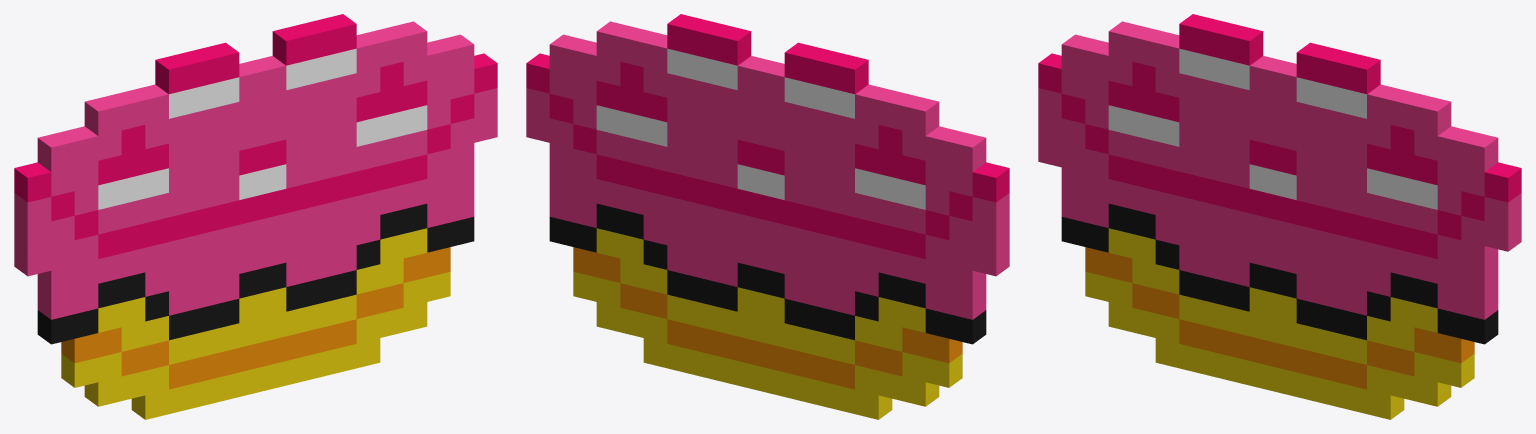
Rendered from p_cake_voxel.fbx.
The picture shows the model from 3 angles, left to right: view 1: azimuth 30°, elevation 25°; view 2: azimuth 150°, elevation 25°; view 3: azimuth 330°, elevation 25°; orthographic projection.
Parts seen in each view (by area): view 1: Cake_Lowpoly.214, Cake_Lowpoly.017, Cake_Lowpoly.047, Cake_Lowpoly.086, Cake_Lowpoly.025, Cake_Lowpoly.019, Cake_Lowpoly.014, Cake_Lowpoly.016, Cake_Lowpoly.018, Cake_Lowpoly.015, Cake_Lowpoly.026, Cake_Lowpoly.125 (+215 smaller); view 2: Cake_Lowpoly.214, Cake_Lowpoly.017, Cake_Lowpoly.047, Cake_Lowpoly.086, Cake_Lowpoly.025, Cake_Lowpoly.019, Cake_Lowpoly.014, Cake_Lowpoly.016, Cake_Lowpoly.018, Cake_Lowpoly.015, Cake_Lowpoly.026, Cake_Lowpoly.125 (+215 smaller); view 3: Cake_Lowpoly.114, Cake_Lowpoly.117, Cake_Lowpoly.147, Cake_Lowpoly.186, Cake_Lowpoly.125, Cake_Lowpoly.119, Cake_Lowpoly.116, Cake_Lowpoly.118, Cake_Lowpoly.115, Cake_Lowpoly.120, Cake_Lowpoly.126, Cake_Lowpoly.025 (+215 smaller).
Boxes of the visible parts, x1,y1,x2,y2 form: Cake_Lowpoly.214: (272, 25, 309, 65); Cake_Lowpoly.017: (14, 162, 51, 202); Cake_Lowpoly.047: (84, 96, 121, 135); Cake_Lowpoly.086: (155, 54, 192, 94); Cake_Lowpoly.025: (37, 132, 74, 172); Cake_Lowpoly.019: (37, 285, 74, 319); Cake_Lowpoly.014: (14, 242, 51, 276); Cake_Lowpoly.016: (14, 193, 51, 226); Cake_Lowpoly.018: (37, 310, 74, 344); Cake_Lowpoly.015: (14, 217, 51, 251); Cake_Lowpoly.026: (61, 354, 98, 387); Cake_Lowpoly.125: (437, 34, 474, 74); Cake_Lowpoly.214: (714, 25, 751, 65); Cake_Lowpoly.017: (972, 162, 1009, 202); Cake_Lowpoly.047: (902, 96, 939, 135); Cake_Lowpoly.086: (831, 54, 868, 94); Cake_Lowpoly.025: (949, 132, 986, 172); Cake_Lowpoly.019: (949, 285, 986, 319); Cake_Lowpoly.014: (972, 242, 1009, 276); Cake_Lowpoly.016: (972, 193, 1009, 226); Cake_Lowpoly.018: (949, 310, 986, 344); Cake_Lowpoly.015: (972, 217, 1009, 251); Cake_Lowpoly.026: (925, 354, 962, 387); Cake_Lowpoly.125: (549, 34, 586, 74); Cake_Lowpoly.114: (1226, 25, 1263, 65); Cake_Lowpoly.117: (1484, 162, 1521, 202); Cake_Lowpoly.147: (1414, 96, 1451, 135); Cake_Lowpoly.186: (1343, 54, 1380, 94); Cake_Lowpoly.125: (1461, 132, 1498, 172); Cake_Lowpoly.119: (1461, 285, 1498, 319); Cake_Lowpoly.116: (1484, 193, 1521, 226); Cake_Lowpoly.118: (1461, 310, 1498, 344); Cake_Lowpoly.115: (1484, 217, 1521, 251); Cake_Lowpoly.120: (1461, 261, 1498, 295); Cake_Lowpoly.126: (1437, 354, 1474, 387); Cake_Lowpoly.025: (1061, 34, 1098, 74).
Bounding box in the file's own units: 1.99 × 1.39 × 0.0993.
